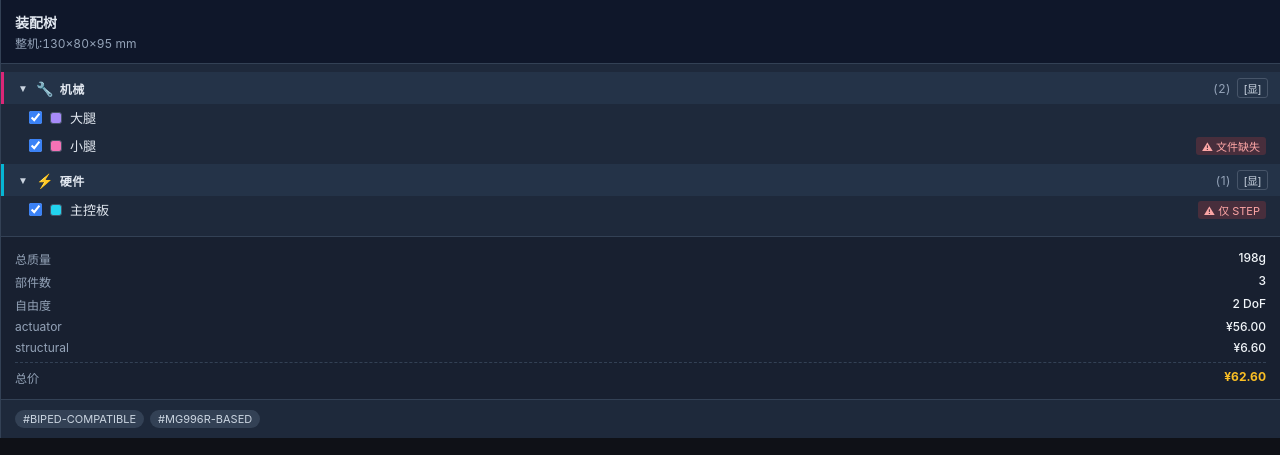
Test: AssemblyTree › owner 折叠按钮收起 part 列表
Click the button with class "caret" next to "机械": [23, 88] box [16,82,30,94]
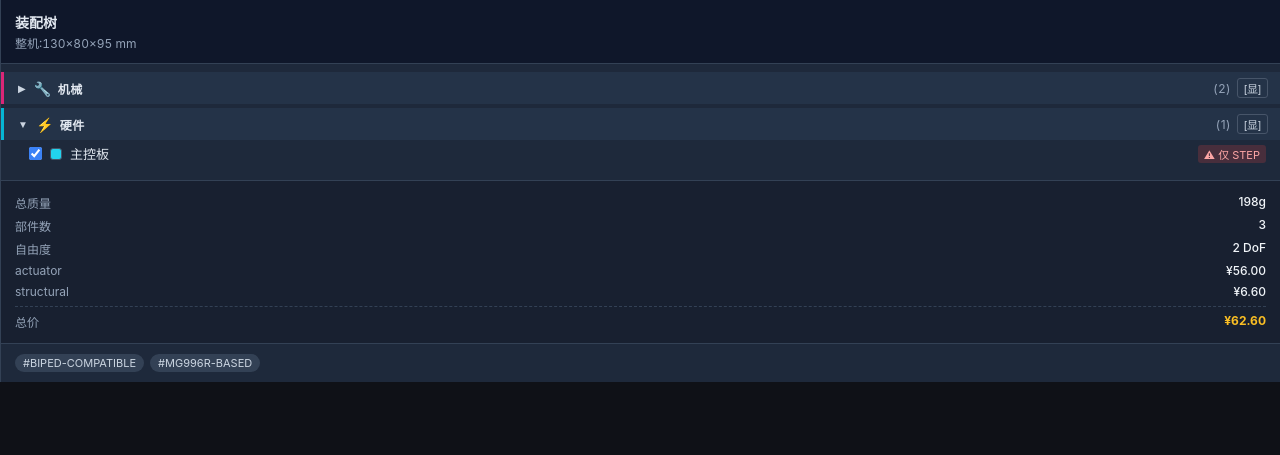
Check: the text "大腿" is gone
